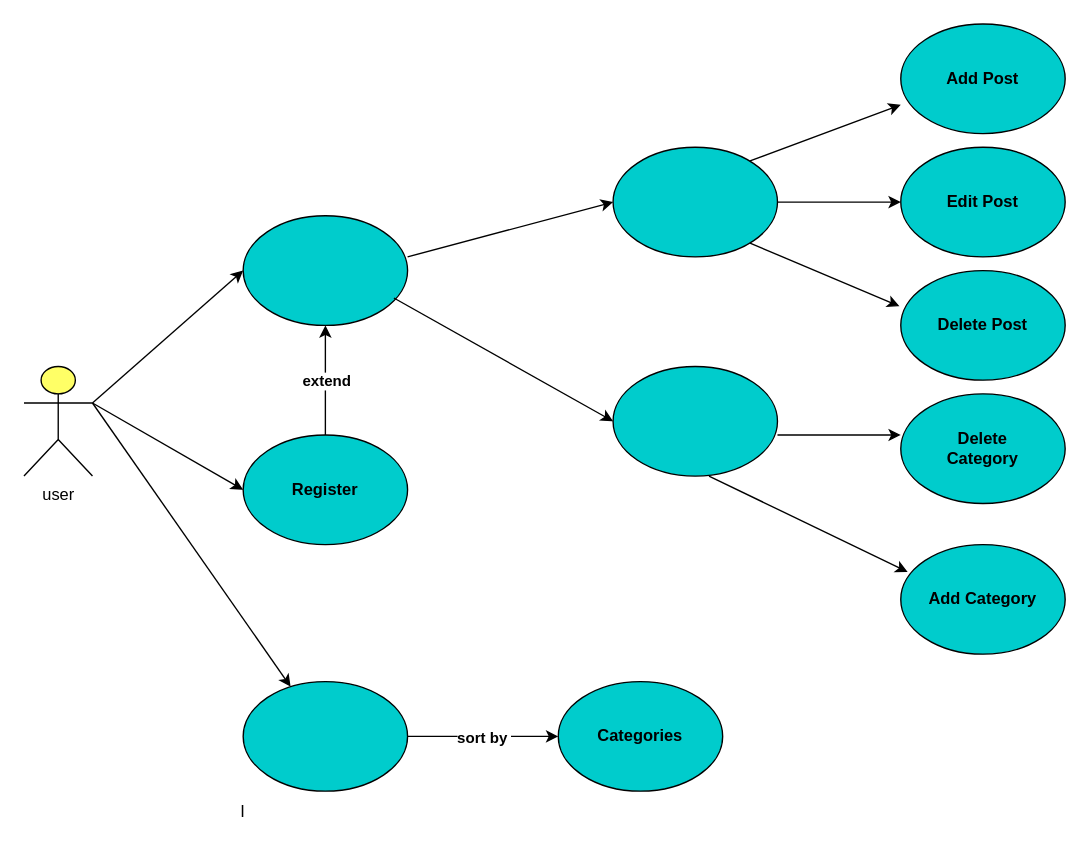
Some shapes in this 1089 by 856 pixel diagram are drawn without their labels. The shapes that lost their labels are listed below. From the top down, each one's centre as x and y in pixels, then its label:
point (694, 201): Manage Posts
point (325, 269): Login
point (694, 420): Manage Categories
point (325, 735): Read
